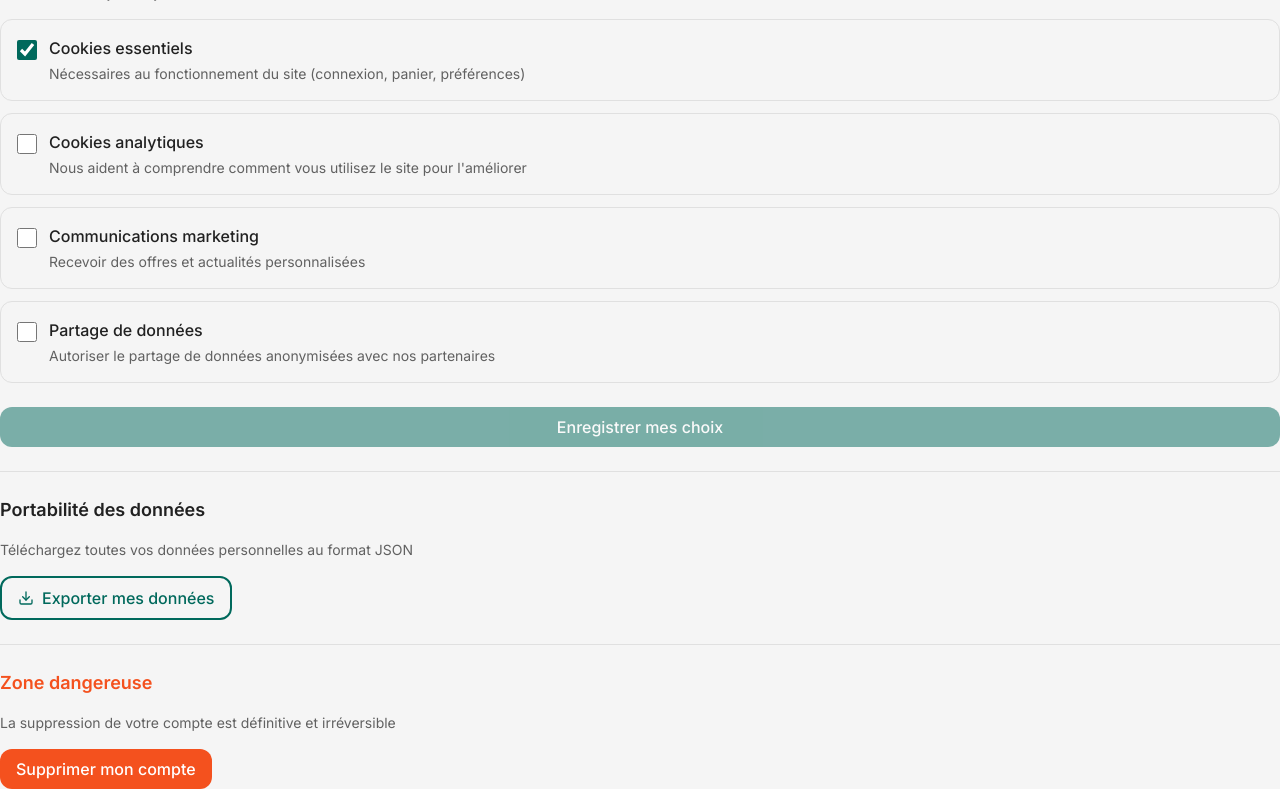
Test: RgpdSettingsForm - logique metier (Phase 5 RGPD) › ouvre la modale de suppression de compte au clic sur Supprimer mon compte
(page scrolled)
Expected: the text "action irréversible" is not shown
What coordinates should you click on to do the following:
click the button "Supprimer mon compte"
I would click on:
 (106, 769)
Its box is top-left (0, 749), bottom-right (212, 788).
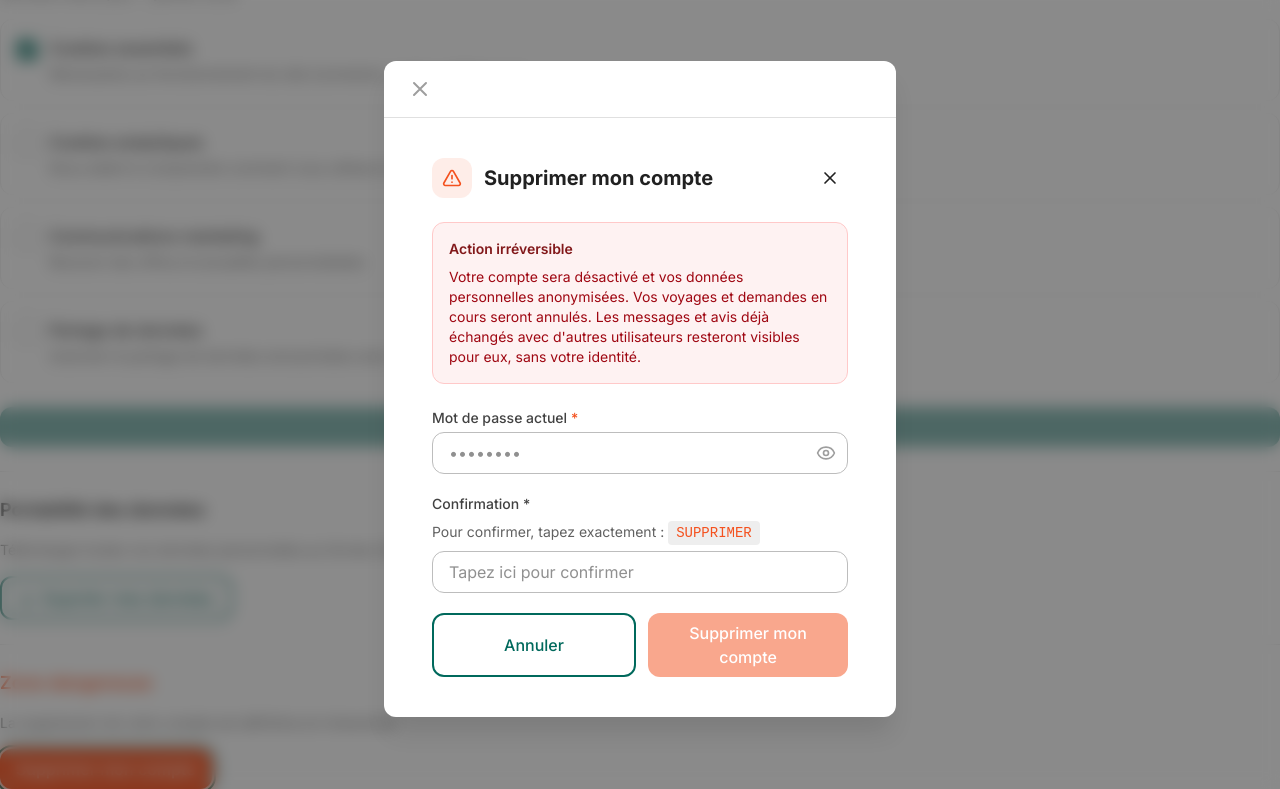
Result: the text "Action irréversible" is shown at top-left (449, 240), bottom-right (573, 257)
